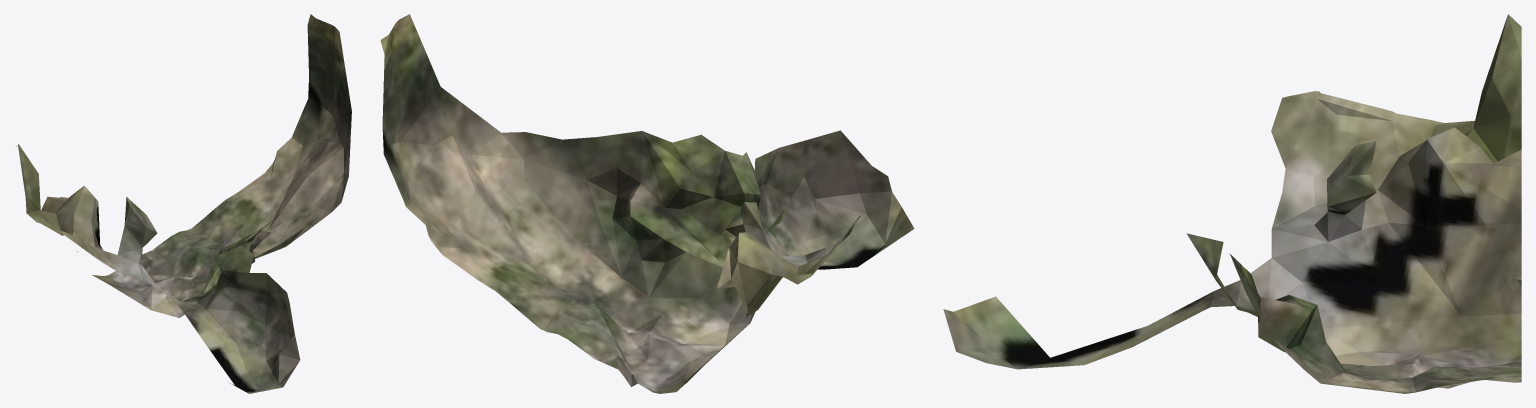
3 renders of one model, left to right at view 1: azimuth 30°, elevation 25°; view 2: azimuth 150°, elevation 25°; view 3: azimuth 270°, elevation 25°, orthographic. The views are drawn at different scales.
Bounding box in the file's own units: 50.39 × 34.78 × 49.28.
1 material, 1 textured.
